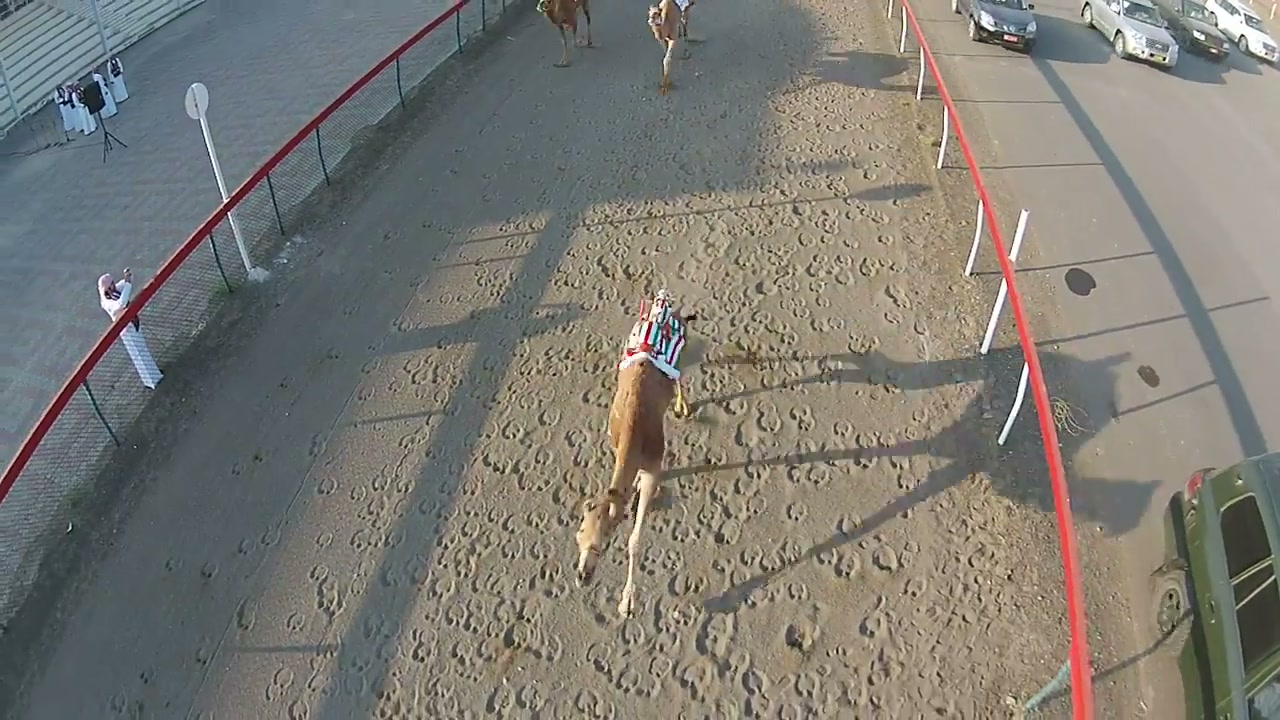animal_footprint: (152, 0, 1062, 719)
